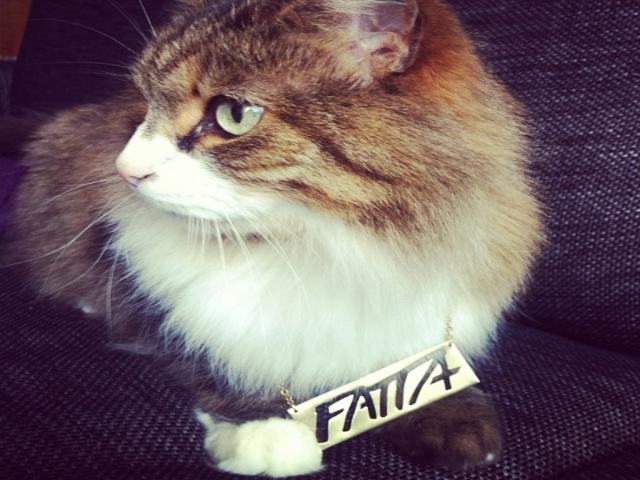Cat: (0, 0, 550, 479)
